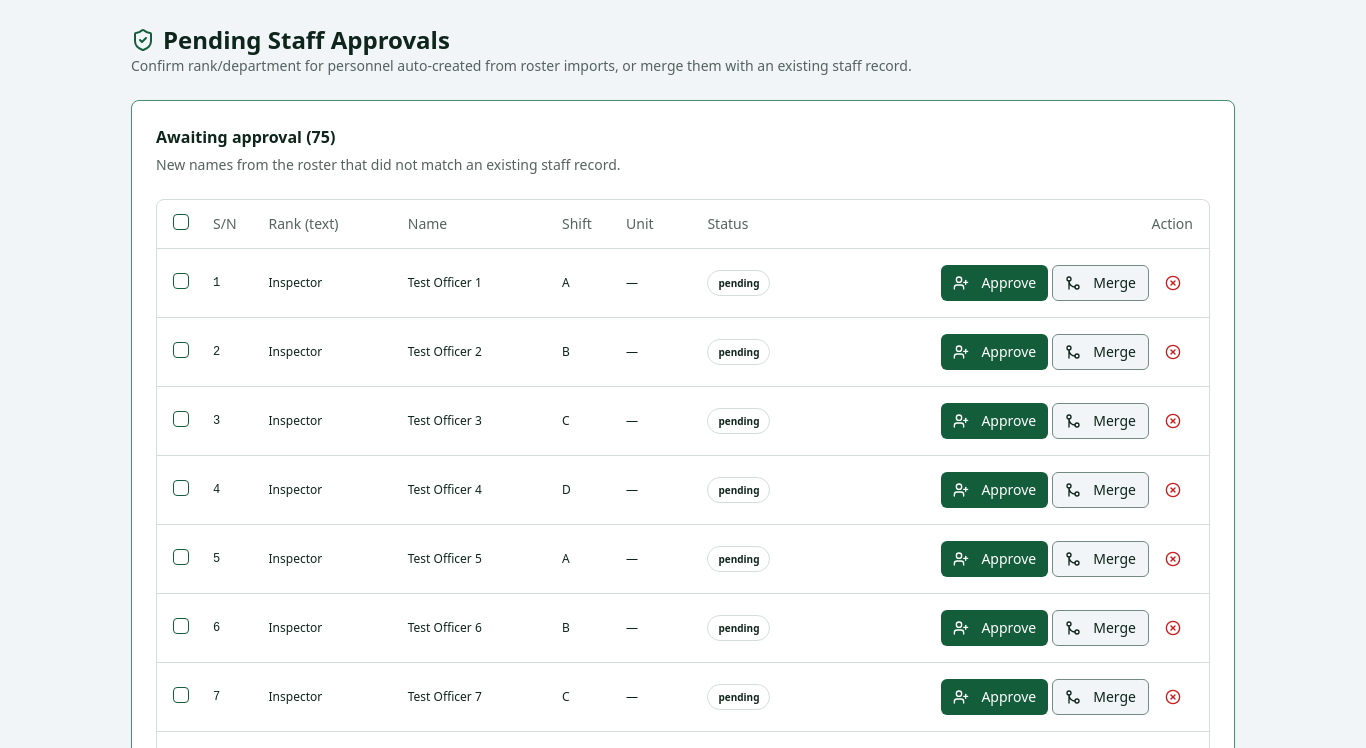
Test: PendingStaffApprovals — bulk actions › requires confirmation before approving and processes selection in chunks of 50
Later steps or results of the test are not shown.
Expected: the text "Test Officer 1" is shown, [392,248,546,317]
Select all 75 rows
Click the checkbox named "select all": (181,222) [173,214,189,230]
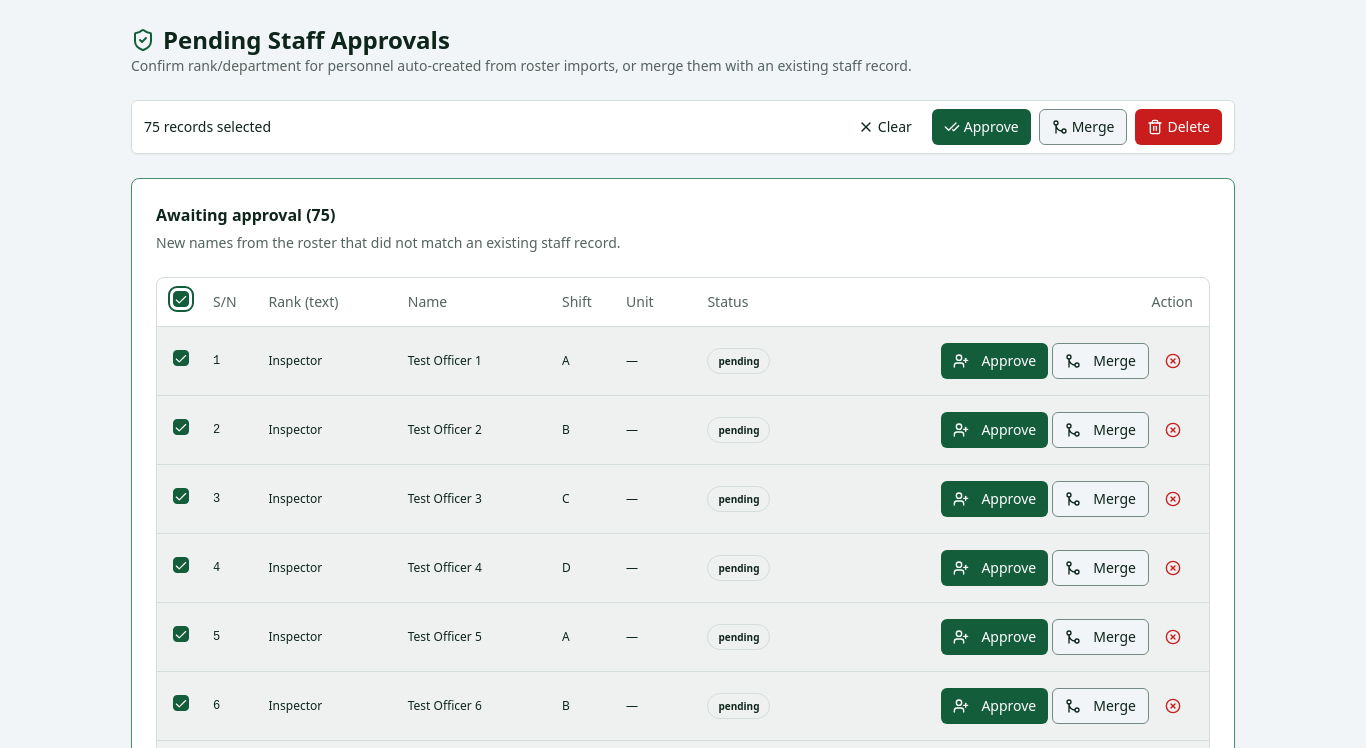
Click the button "Approve" in the row of "selected": (981,127) [932,109,1031,145]
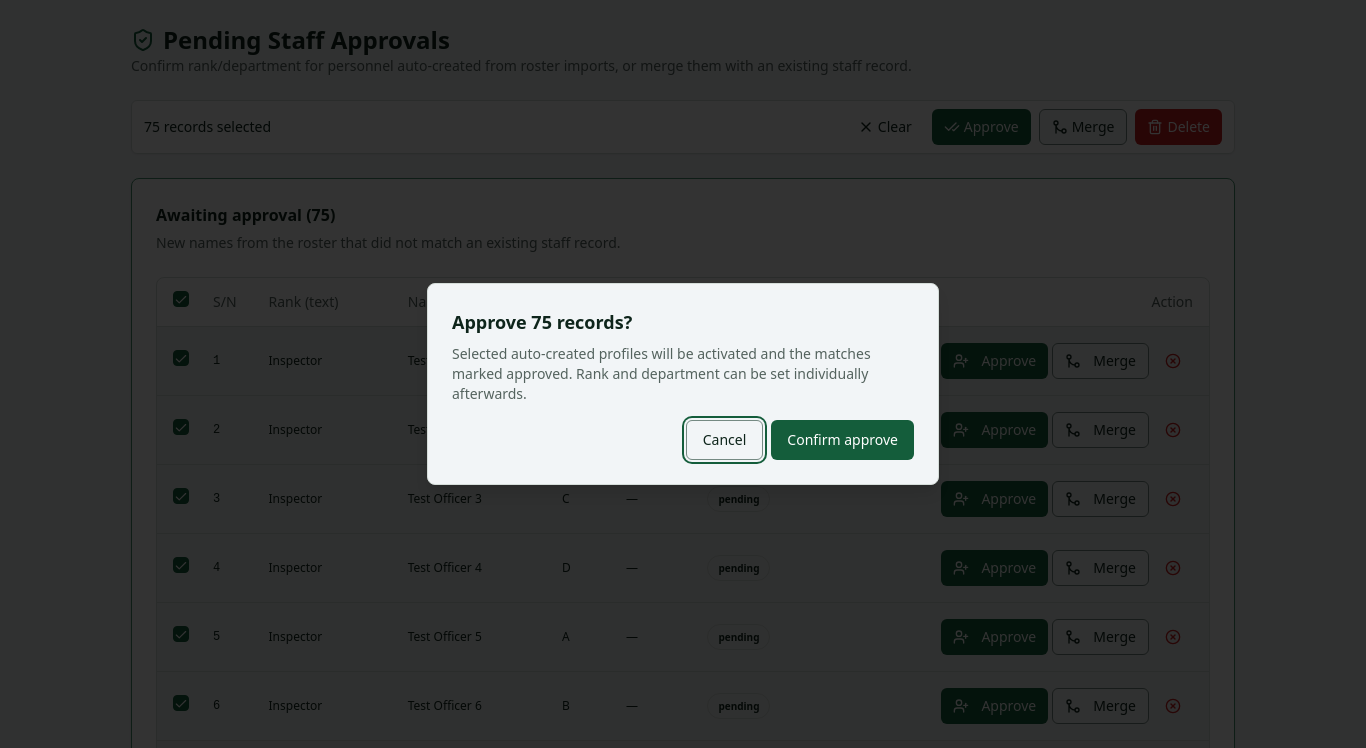
Now the heading "Approve 75 records?" is shown, box [452,310,632,334]
